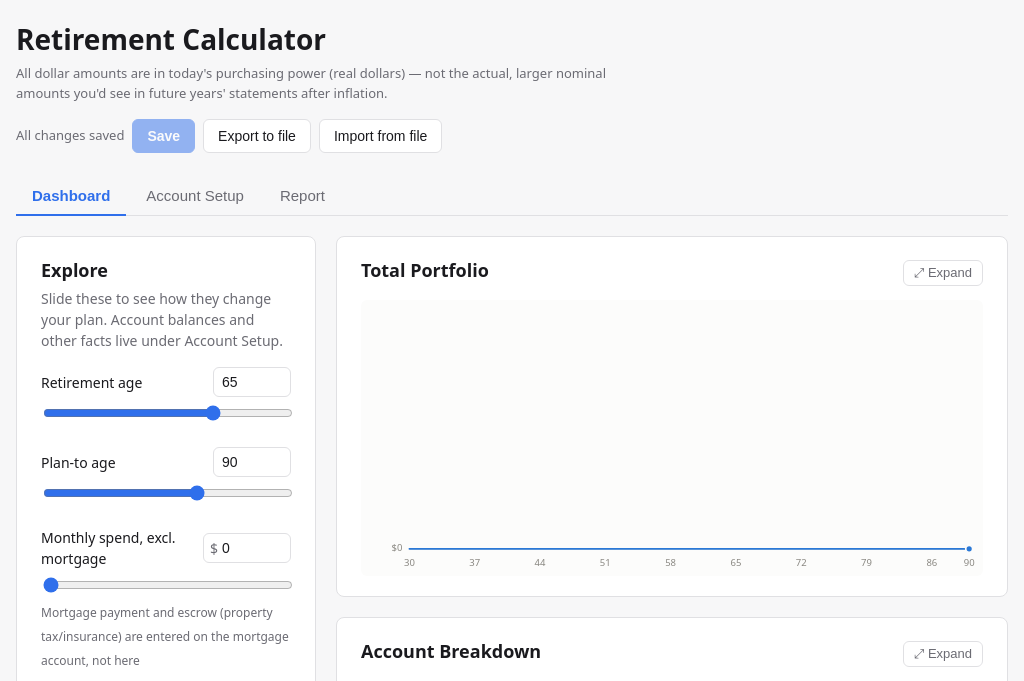
it: App › opens on a clean slate — no accounts, no pensions, nothing pre-filled
Check: the heading "Retirement Calculator" is shown, box [16,20,326,58]
Click the tab "Account Setup" at (195, 196), box [130,177,260,216]
(page scrolled)
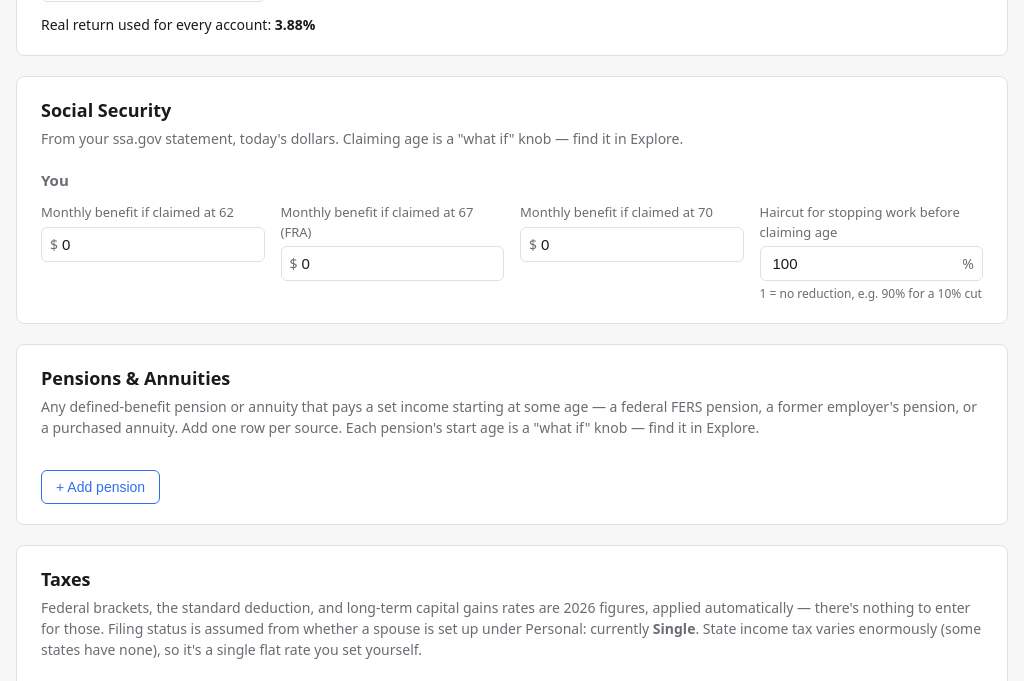
Check: the heading "Pensions & Annuities" is shown, box [41,366,230,390]
